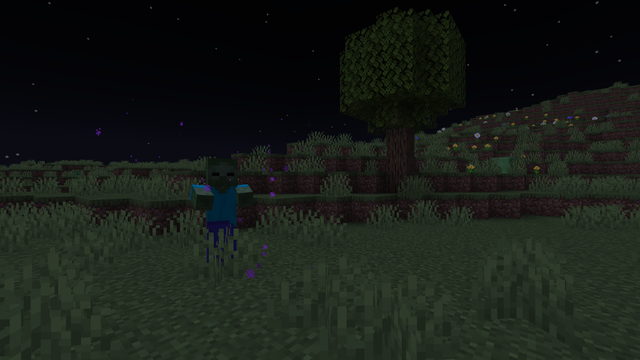creepers: (73, 170, 81, 185)
slimes: (492, 155, 514, 169)
zombies: (198, 160, 244, 274)
